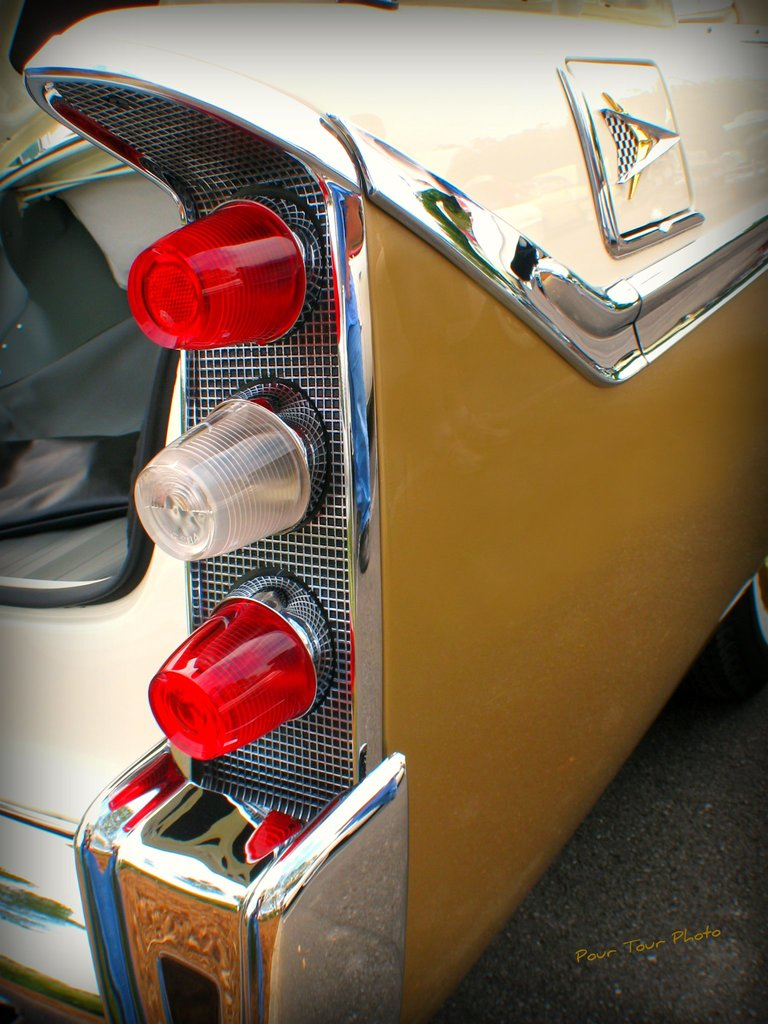Car: (33, 0, 768, 1024)
